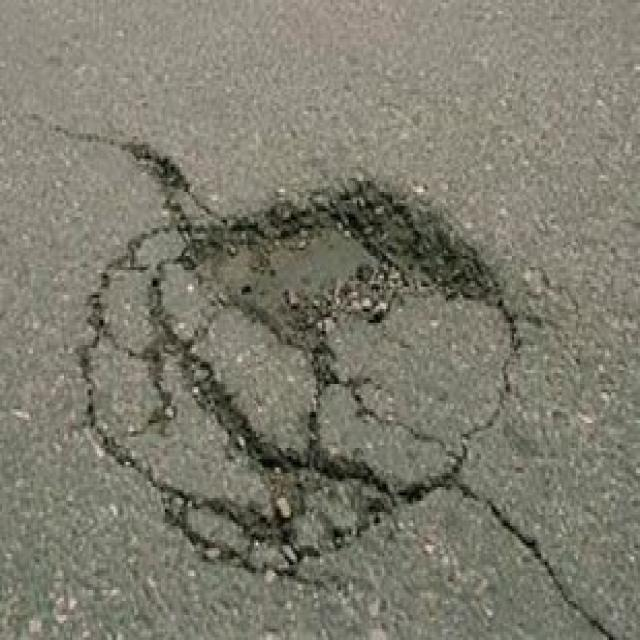Pothole: (101, 147, 541, 579)
